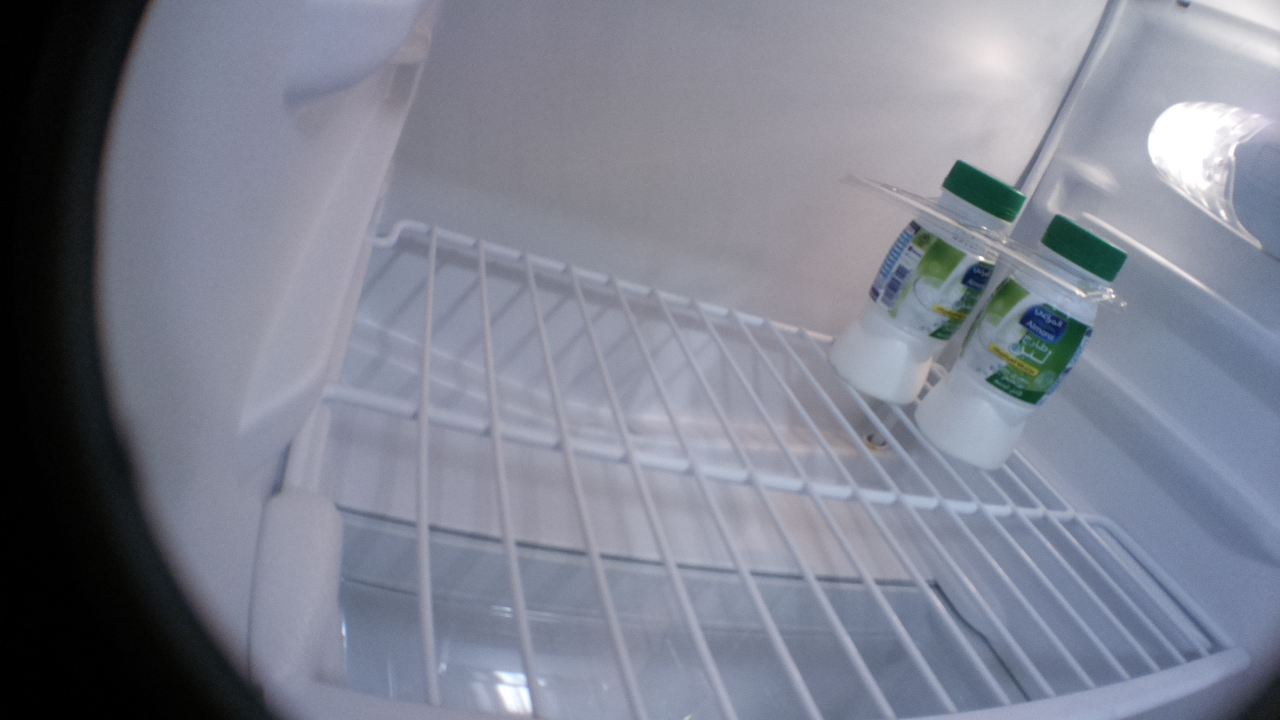laban: (912, 214, 1126, 469), (825, 156, 1028, 409)
